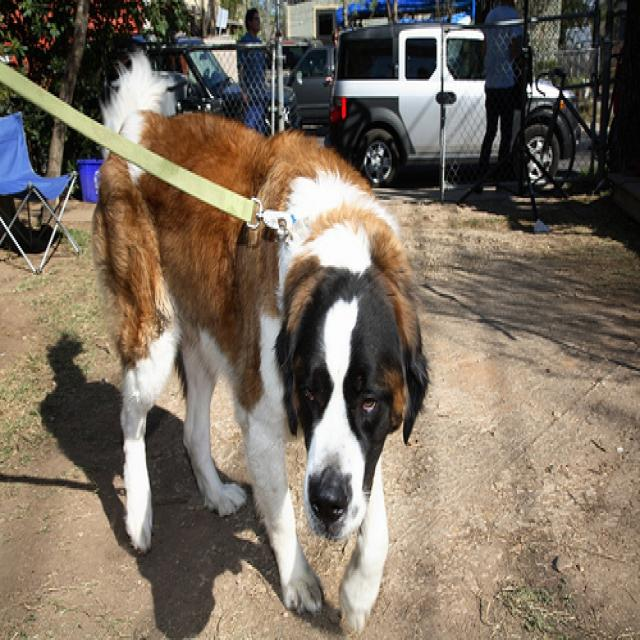dog-saint_bernard: (83, 58, 434, 636)
